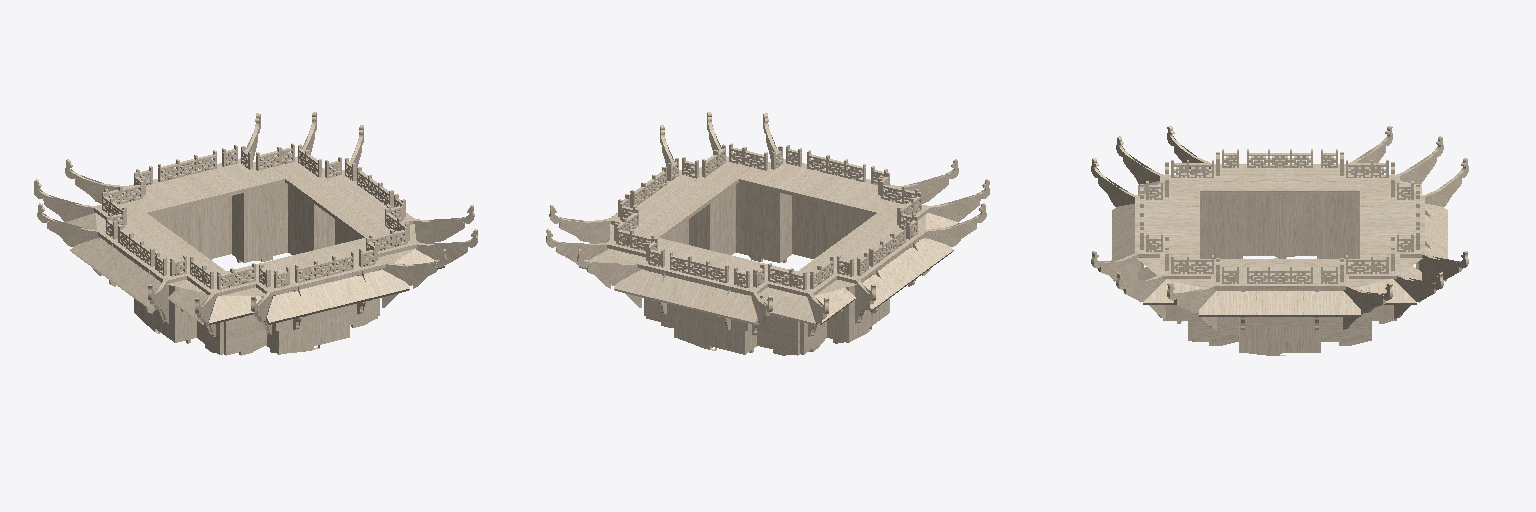
3 renders of one model, left to right at view 1: azimuth 30°, elevation 25°; view 2: azimuth 150°, elevation 25°; view 3: azimuth 270°, elevation 25°, orthographic.
Visible parts, largest first — view 1: Mesh184 ___578_2 ___602_1 ___665_1 Model, Mesh200 ___578_4 ___602_1 ___665_1 Model, Mesh176 ___578_1 ___602_1 ___665_1 Model, Mesh192 ___578_3 ___602_1 ___665_1 Model, Mesh353 ___581_8 ___596_4 ___666_1 Model, Mesh343 ___570_4 ___596_4 ___666_1 Model, Mesh222 ___571_6 ___622_3 ___665_1 Model, Mesh218 ___571_5 ___622_3 ___665_1 Model, Mesh271 ___570_1 ___596_1 ___666_1 Model, Mesh300 ___581_3 ___596_2 ___666_1 Model, Mesh281 ___581_2 ___596_1 ___666_1 Model, Mesh233 ___571_8 ___622_4 ___665_1 Model (+13 smaller); view 2: Mesh176 ___578_1 ___602_1 ___665_1 Model, Mesh192 ___578_3 ___602_1 ___665_1 Model, Mesh184 ___578_2 ___602_1 ___665_1 Model, Mesh200 ___578_4 ___602_1 ___665_1 Model, Mesh276 ___581_1 ___596_1 ___666_1 Model, Mesh271 ___570_1 ___596_1 ___666_1 Model, Mesh52 ___571_1 ___622_1 ___665_1 Model, Mesh56 ___571_2 ___622_1 ___665_1 Model, Mesh305 ___581_4 ___596_2 ___666_1 Model, Mesh229 ___571_7 ___622_4 ___665_1 Model, Mesh343 ___570_4 ___596_4 ___666_1 Model, Mesh348 ___581_7 ___596_4 ___666_1 Model (+13 smaller); view 3: Mesh319 ___570_3 ___596_3 ___666_1 Model, Mesh200 ___578_4 ___602_1 ___665_1 Model, Mesh192 ___578_3 ___602_1 ___665_1 Model, Mesh176 ___578_1 ___602_1 ___665_1 Model, Mesh184 ___578_2 ___602_1 ___665_1 Model, Mesh324 ___581_5 ___596_3 ___666_1 Model, Mesh329 ___581_6 ___596_3 ___666_1 Model, Mesh207 ___571_3 ___622_2 ___665_1 Model, Mesh211 ___571_4 ___622_2 ___665_1 Model, Mesh295 ___570_2 ___596_2 ___666_1 Model, Mesh305 ___581_4 ___596_2 ___666_1 Model, Mesh300 ___581_3 ___596_2 ___666_1 Model (+14 smaller).
Boxes of the visible parts, x1=… form: Mesh184 ___578_2 ___602_1 ___665_1 Model: x1=188, y1=157, x2=373, y2=210; Mesh200 ___578_4 ___602_1 ___665_1 Model: x1=94, y1=173, x2=215, y2=258; Mesh176 ___578_1 ___602_1 ___665_1 Model: x1=296, y1=197, x2=417, y2=281; Mesh192 ___578_3 ___602_1 ___665_1 Model: x1=131, y1=242, x2=327, y2=296; Mesh353 ___581_8 ___596_4 ___666_1 Model: x1=247, y1=183, x2=287, y2=261; Mesh343 ___570_4 ___596_4 ___666_1 Model: x1=180, y1=196, x2=231, y2=259; Mesh222 ___571_6 ___622_3 ___665_1 Model: x1=266, y1=283, x2=339, y2=324; Mesh218 ___571_5 ___622_3 ___665_1 Model: x1=328, y1=270, x2=409, y2=307; Mesh271 ___570_1 ___596_1 ___666_1 Model: x1=277, y1=291, x2=349, y2=354; Mesh300 ___581_3 ___596_2 ___666_1 Model: x1=288, y1=185, x2=311, y2=254; Mesh281 ___581_2 ___596_1 ___666_1 Model: x1=224, y1=296, x2=266, y2=355; Mesh233 ___571_8 ___622_4 ___665_1 Model: x1=70, y1=238, x2=130, y2=281; Mesh176 ___578_1 ___602_1 ___665_1 Model: x1=650, y1=157, x2=835, y2=210; Mesh192 ___578_3 ___602_1 ___665_1 Model: x1=808, y1=173, x2=929, y2=258; Mesh184 ___578_2 ___602_1 ___665_1 Model: x1=606, y1=197, x2=727, y2=281; Mesh200 ___578_4 ___602_1 ___665_1 Model: x1=696, y1=242, x2=892, y2=296; Mesh276 ___581_1 ___596_1 ___666_1 Model: x1=736, y1=183, x2=776, y2=261; Mesh271 ___570_1 ___596_1 ___666_1 Model: x1=792, y1=196, x2=843, y2=258; Mesh52 ___571_1 ___622_1 ___665_1 Model: x1=684, y1=283, x2=757, y2=324; Mesh56 ___571_2 ___622_1 ___665_1 Model: x1=614, y1=270, x2=695, y2=307; Mesh305 ___581_4 ___596_2 ___666_1 Model: x1=712, y1=185, x2=735, y2=254; Mesh229 ___571_7 ___622_4 ___665_1 Model: x1=893, y1=238, x2=953, y2=281; Mesh343 ___570_4 ___596_4 ___666_1 Model: x1=674, y1=291, x2=746, y2=354; Mesh348 ___581_7 ___596_4 ___666_1 Model: x1=757, y1=296, x2=799, y2=355; Mesh319 ___570_3 ___596_3 ___666_1 Model: x1=1243, y1=195, x2=1316, y2=258; Mesh200 ___578_4 ___602_1 ___665_1 Model: x1=1280, y1=164, x2=1424, y2=224; Mesh192 ___578_3 ___602_1 ___665_1 Model: x1=1135, y1=164, x2=1279, y2=224; Mesh176 ___578_1 ___602_1 ___665_1 Model: x1=1135, y1=225, x2=1279, y2=289; Mesh184 ___578_2 ___602_1 ___665_1 Model: x1=1280, y1=225, x2=1424, y2=289; Mesh324 ___581_5 ___596_3 ___666_1 Model: x1=1200, y1=195, x2=1238, y2=258; Mesh329 ___581_6 ___596_3 ___666_1 Model: x1=1321, y1=195, x2=1359, y2=258; Mesh207 ___571_3 ___622_2 ___665_1 Model: x1=1280, y1=291, x2=1360, y2=316; Mesh211 ___571_4 ___622_2 ___665_1 Model: x1=1199, y1=291, x2=1279, y2=316; Mesh295 ___570_2 ___596_2 ___666_1 Model: x1=1239, y1=290, x2=1320, y2=355; Mesh305 ___581_4 ___596_2 ___666_1 Model: x1=1192, y1=290, x2=1238, y2=345; Mesh300 ___581_3 ___596_2 ___666_1 Model: x1=1321, y1=290, x2=1367, y2=345.
Size of the model in its own units: 189 by 56.21 by 189.
2 materials, 1 textured.